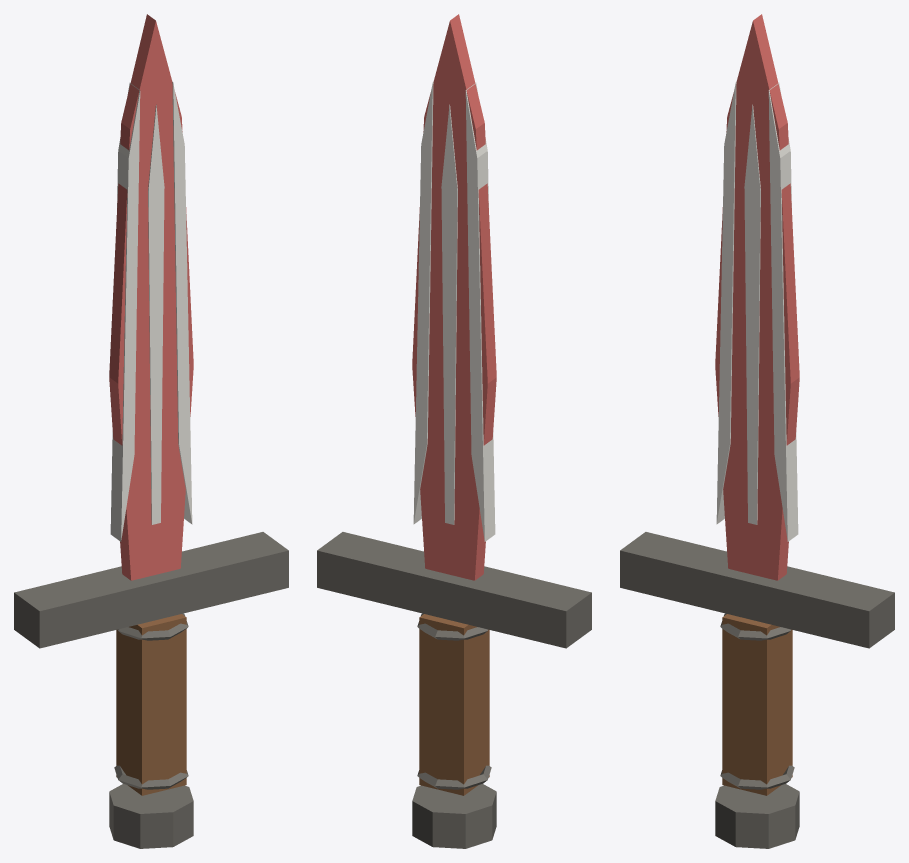
Rendered from t5_one_handed_sword.glb.
3 views of the same model, side by side, from view 1: azimuth 30°, elevation 25°; view 2: azimuth 150°, elevation 25°; view 3: azimuth 330°, elevation 25° (orthographic).
Visible parts, largest first — view 1: Blade, Guard, Grip, LeftBladeEdge, Fuller, RightBladeEdge, Pommel, BottomGripRing, TopGripRing; view 2: Blade, Guard, Grip, LeftBladeEdge, Fuller, RightBladeEdge, Pommel, BottomGripRing, TopGripRing; view 3: Blade, Guard, Grip, RightBladeEdge, Fuller, LeftBladeEdge, Pommel, BottomGripRing, TopGripRing.
Boxes of the visible parts, x1,y1,x2,y2 form: Blade: [109, 14, 193, 580]; Guard: [14, 532, 288, 648]; Grip: [116, 614, 186, 795]; LeftBladeEdge: [110, 83, 140, 541]; Fuller: [148, 104, 164, 524]; RightBladeEdge: [172, 82, 192, 524]; Pommel: [109, 783, 193, 848]; BottomGripRing: [114, 765, 188, 789]; TopGripRing: [118, 613, 188, 640]; Blade: [412, 14, 496, 580]; Guard: [317, 532, 591, 648]; Grip: [419, 614, 489, 795]; LeftBladeEdge: [465, 83, 495, 541]; Fuller: [441, 104, 457, 524]; RightBladeEdge: [413, 82, 433, 524]; Pommel: [412, 783, 496, 848]; BottomGripRing: [417, 765, 491, 789]; TopGripRing: [417, 613, 487, 640]; Blade: [715, 14, 799, 580]; Guard: [620, 532, 894, 648]; Grip: [722, 614, 792, 795]; RightBladeEdge: [768, 83, 798, 541]; Fuller: [744, 104, 760, 524]; LeftBladeEdge: [716, 82, 736, 524]; Pommel: [715, 783, 799, 848]; BottomGripRing: [720, 765, 794, 789]; TopGripRing: [720, 613, 790, 640].
Bounding box in the file's own units: 0.56 × 1.75 × 0.17.
